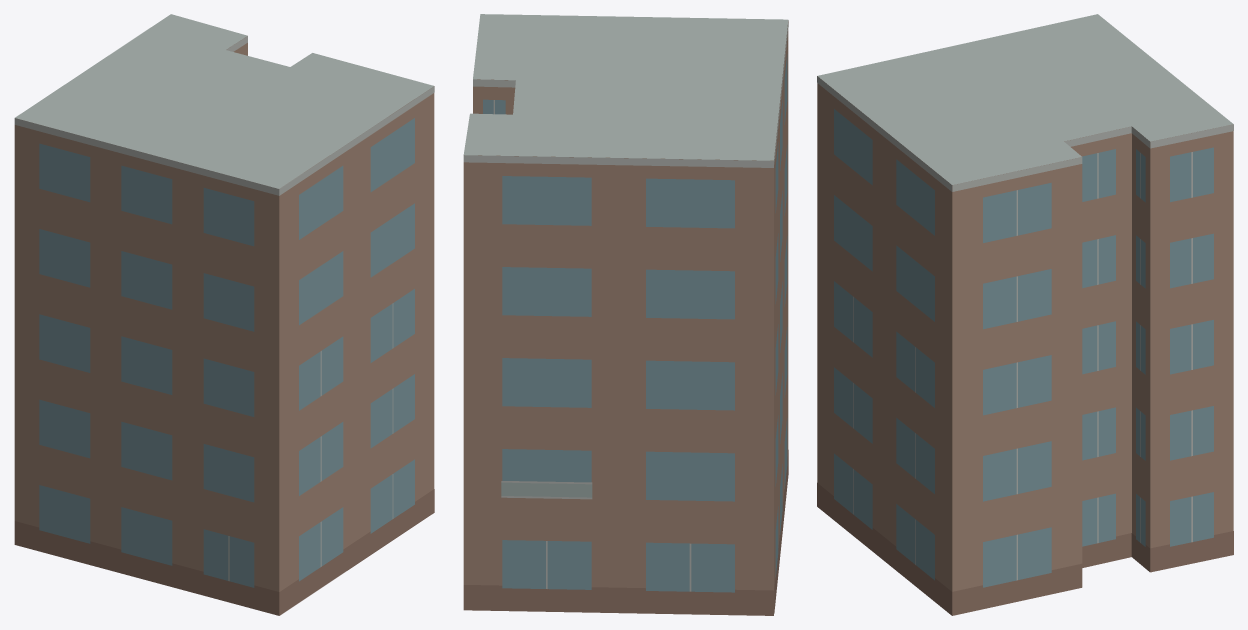
Rendered from survey-upis-32704838.glb.
The picture shows the model from 3 angles, left to right: view 1: azimuth 30°, elevation 25°; view 2: azimuth 150°, elevation 25°; view 3: azimuth 270°, elevation 25°; orthographic projection. The views are drawn at different scales.
Visible parts, largest first — view 1: survey-upis-32704838.tmp; view 2: survey-upis-32704838.tmp; view 3: survey-upis-32704838.tmp.
Boxes of the visible parts, x1,y1,x2,y2 form: survey-upis-32704838.tmp: (14, 14, 434, 615); survey-upis-32704838.tmp: (463, 14, 788, 615); survey-upis-32704838.tmp: (817, 14, 1233, 615).
Size of the model in its own units: 13.01 by 15.25 by 13.38.
